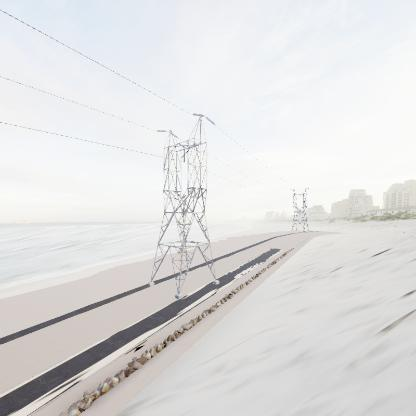tower: (147, 112, 222, 305), (288, 186, 312, 233)
